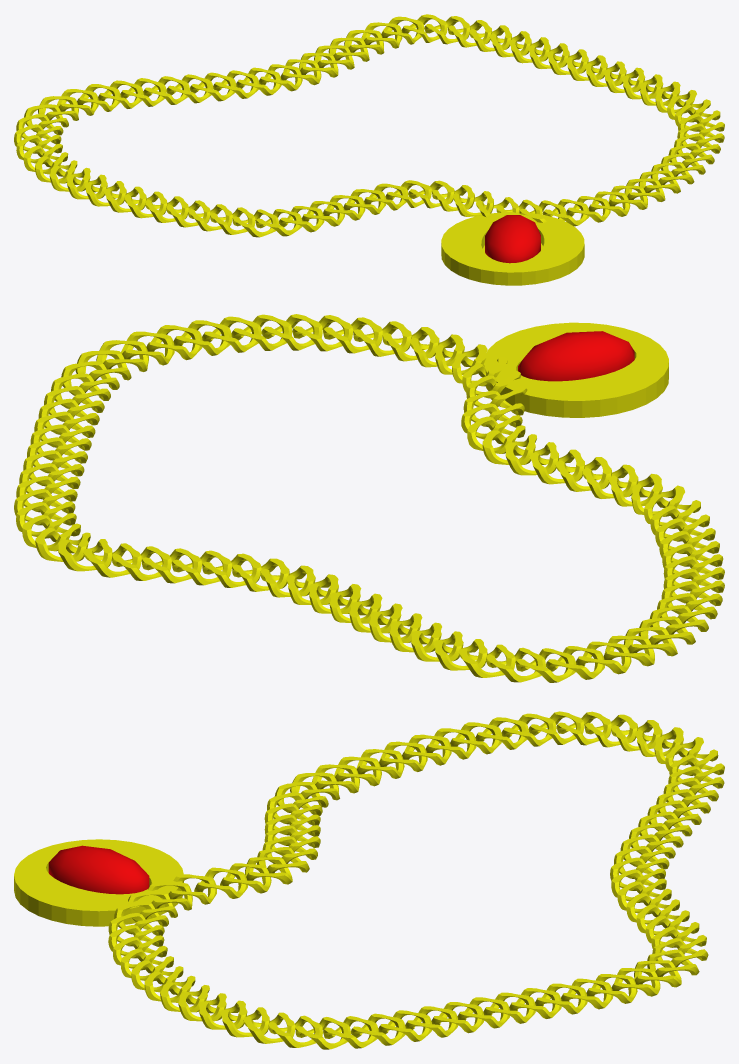
The model's file is healthAmulet.fbx.
3 views of the same model, one above another, from view 1: azimuth 30°, elevation 25°; view 2: azimuth 150°, elevation 25°; view 3: azimuth 270°, elevation 25° (orthographic). The views are drawn at different scales.
Visible parts, largest first — view 1: BézierCircle, Circle, Icosphere; view 2: BézierCircle, Circle, Icosphere; view 3: BézierCircle, Circle, Icosphere.
Part boxes in pixels (bbox=[...]): BézierCircle: bbox=[14, 14, 724, 237]; Circle: bbox=[441, 212, 584, 285]; Icosphere: bbox=[485, 215, 540, 263]; BézierCircle: bbox=[14, 314, 724, 682]; Circle: bbox=[483, 322, 668, 417]; Icosphere: bbox=[518, 331, 634, 381]; BézierCircle: bbox=[108, 711, 724, 1049]; Circle: bbox=[14, 839, 183, 926]; Icosphere: bbox=[48, 845, 149, 894].
Bounding box in the file's own units: 1322 × 72.85 × 1197.
